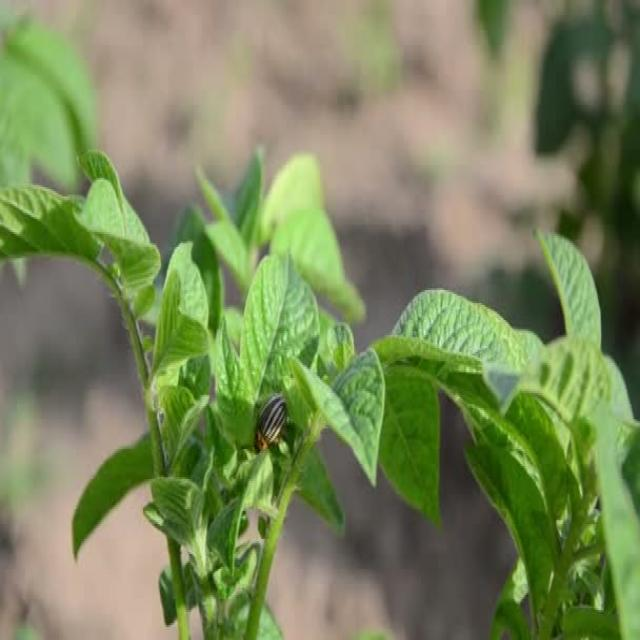ShuCaiHuaBanChong-Grown-: (246, 383, 297, 470)
